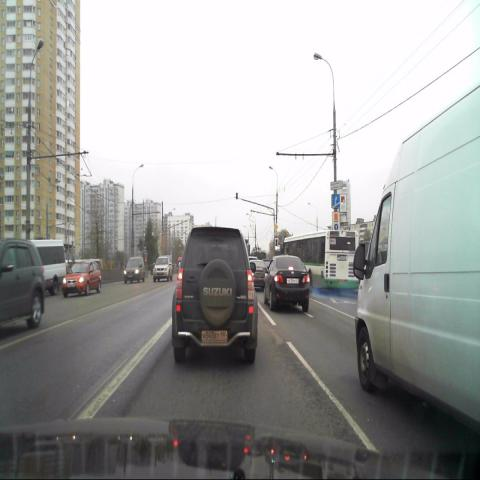4_8_2: (332, 212, 340, 233)
6_6: (332, 194, 340, 208)
